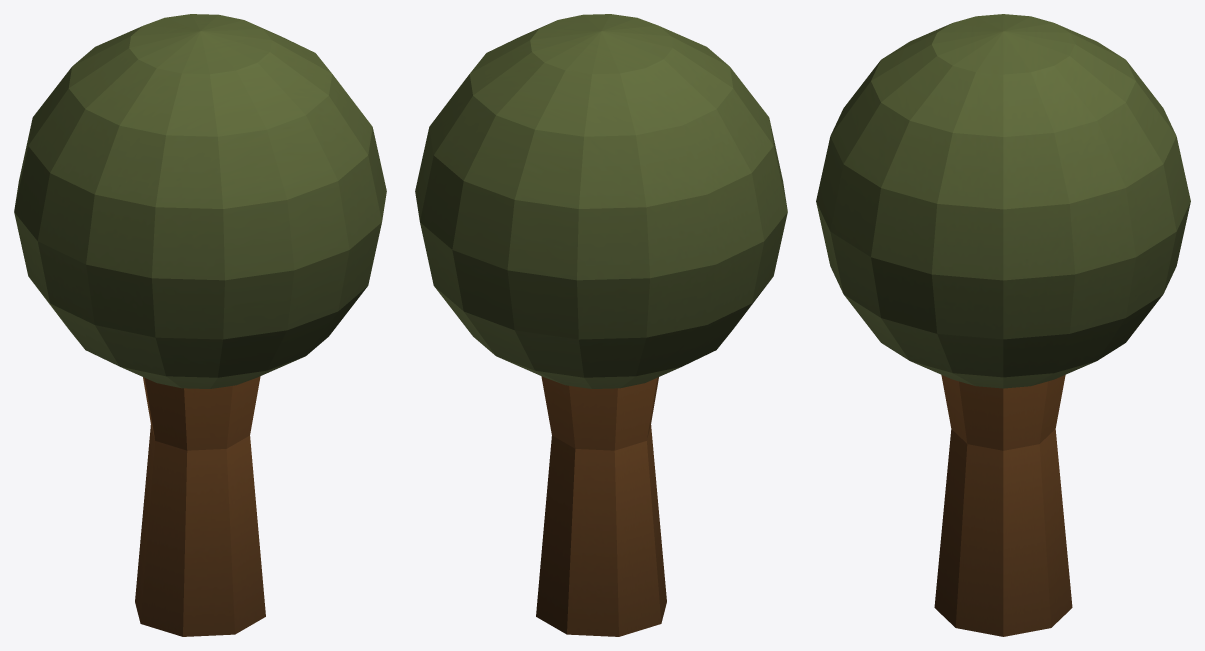
The model's file is boom1.fbx.
The picture shows the model from 3 angles, left to right: view 1: azimuth 30°, elevation 25°; view 2: azimuth 150°, elevation 25°; view 3: azimuth 270°, elevation 25°; orthographic projection.
Visible parts, largest first — view 1: Sphere.010; view 2: Sphere.010; view 3: Sphere.010.
Part boxes in pixels (x1,y1,x2,y2): Sphere.010: (14, 14, 386, 636); Sphere.010: (415, 14, 787, 636); Sphere.010: (816, 14, 1190, 636).
Bounding box in the file's own units: 784 × 1329 × 784.
1 material, 1 textured.
